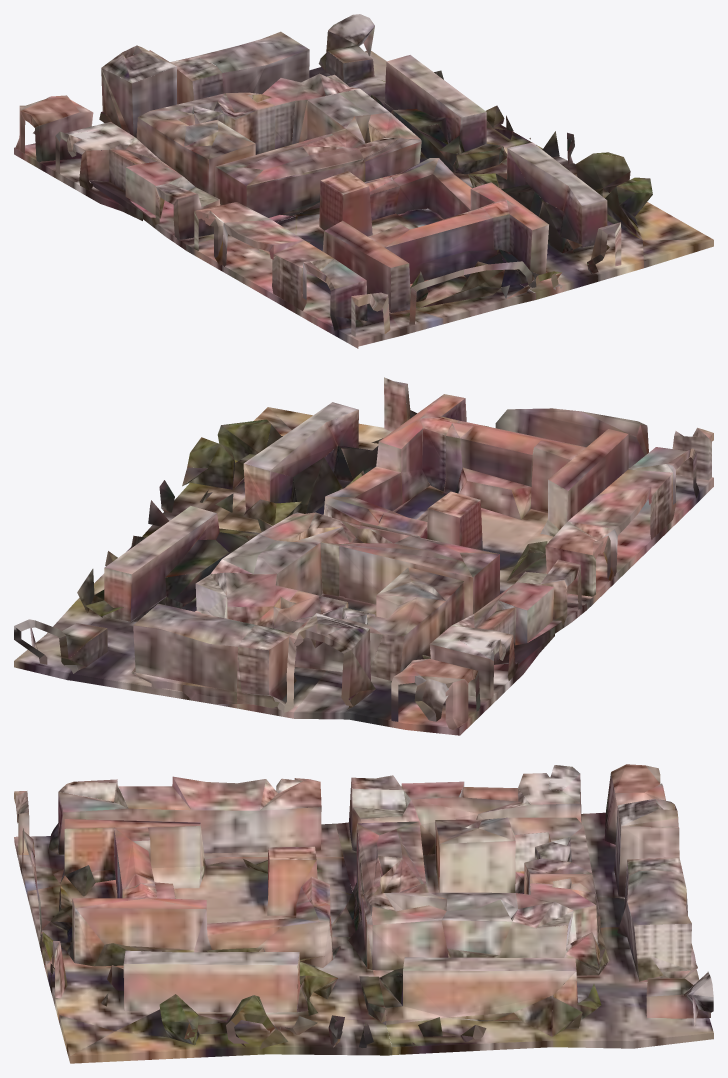
3 views of the same model, one above another, from view 1: azimuth 30°, elevation 25°; view 2: azimuth 150°, elevation 25°; view 3: azimuth 270°, elevation 25° (orthographic). The views are drawn at different scales.
Parts seen in each view (by area): view 1: Mesh_0; view 2: Mesh_0; view 3: Mesh_0.
Part boxes in pixels (x1,y1,x2,y2): Mesh_0: [14, 14, 713, 348]; Mesh_0: [14, 377, 713, 735]; Mesh_0: [14, 764, 713, 1063].
Bounding box in the file's own units: 266 × 51.11 × 330.
Materials: 2 (2 with a texture image).
